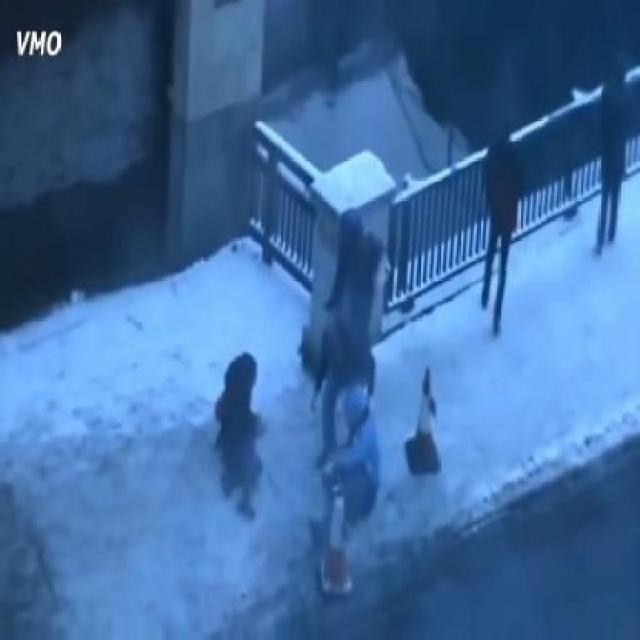fall: (215, 346, 268, 522), (318, 378, 378, 530)
